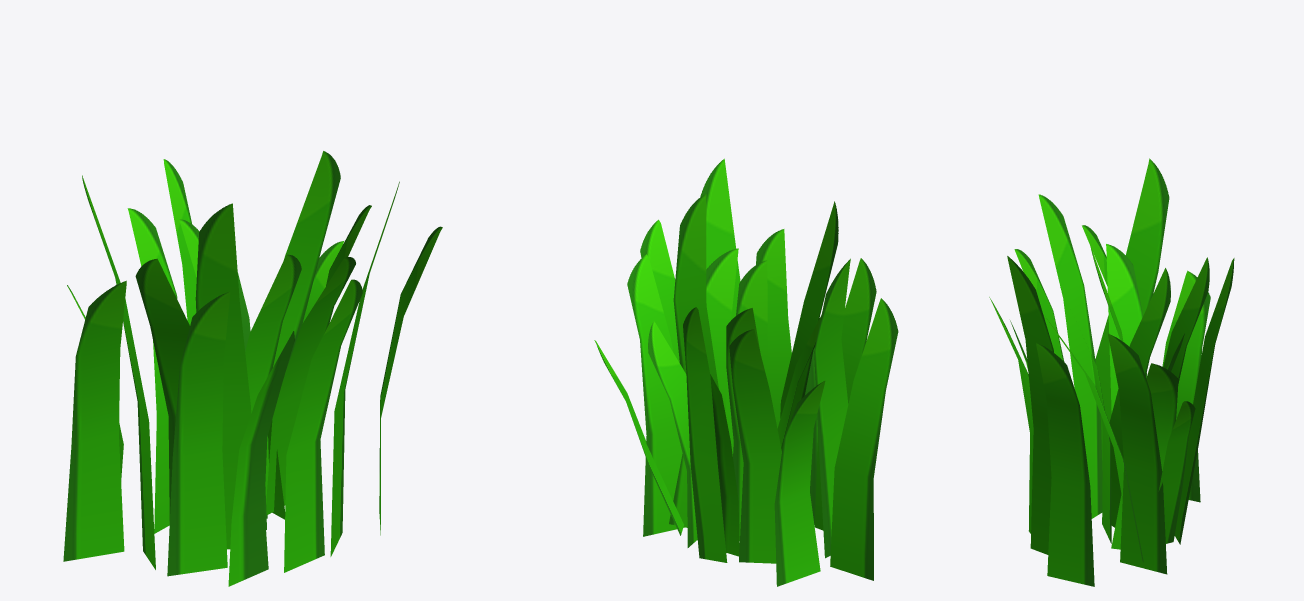
Rendered from Grass_01.FBX.
The picture shows the model from 3 angles, left to right: view 1: azimuth 30°, elevation 25°; view 2: azimuth 150°, elevation 25°; view 3: azimuth 270°, elevation 25°; orthographic projection. The views are drawn at different scales.
Visible parts, largest first — view 1: Grass_01; view 2: Grass_01; view 3: Grass_01.
Part boxes in pixels (x1,y1,x2,y2): Grass_01: (63, 151, 442, 586); Grass_01: (594, 158, 898, 586); Grass_01: (989, 158, 1234, 586).
Bounding box in the file's own units: 19.5 × 17.17 × 25.17.
